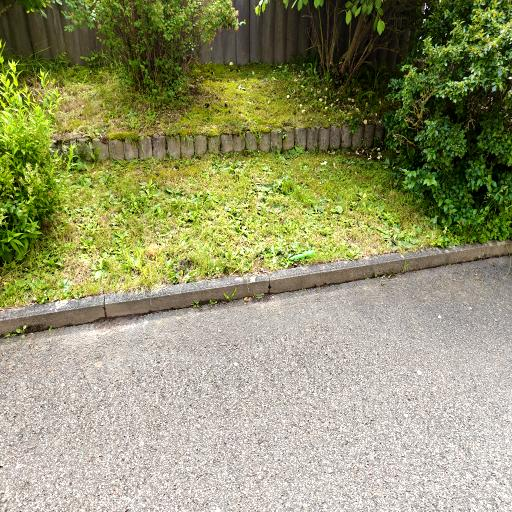Probe-Detection: (290, 250, 314, 260)
